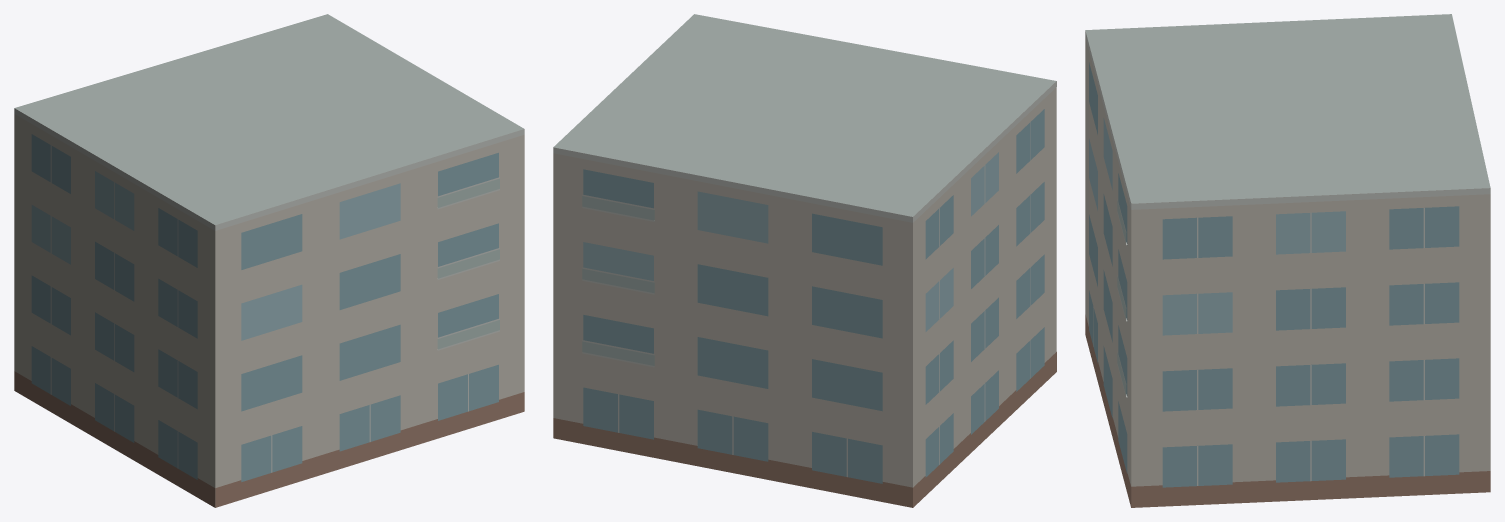
The model's file is survey-upis-33021499.glb.
3 views of the same model, side by side, from view 1: azimuth 30°, elevation 25°; view 2: azimuth 150°, elevation 25°; view 3: azimuth 270°, elevation 25° (orthographic). The views are drawn at different scales.
Visible parts, largest first — view 1: survey-upis-33021499.tmp; view 2: survey-upis-33021499.tmp; view 3: survey-upis-33021499.tmp.
Part boxes in pixels (left/top/right/bottom): survey-upis-33021499.tmp: left=14, top=14, right=524, bottom=507; survey-upis-33021499.tmp: left=553, top=14, right=1056, bottom=507; survey-upis-33021499.tmp: left=1085, top=14, right=1490, bottom=507.
Bounding box in the file's own units: 16.2 × 12.1 × 14.63.
